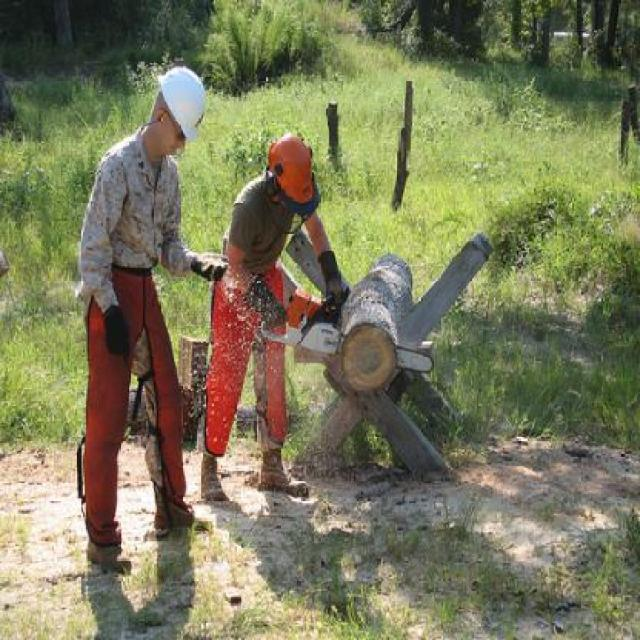Chainsaw: (257, 286, 432, 374)
